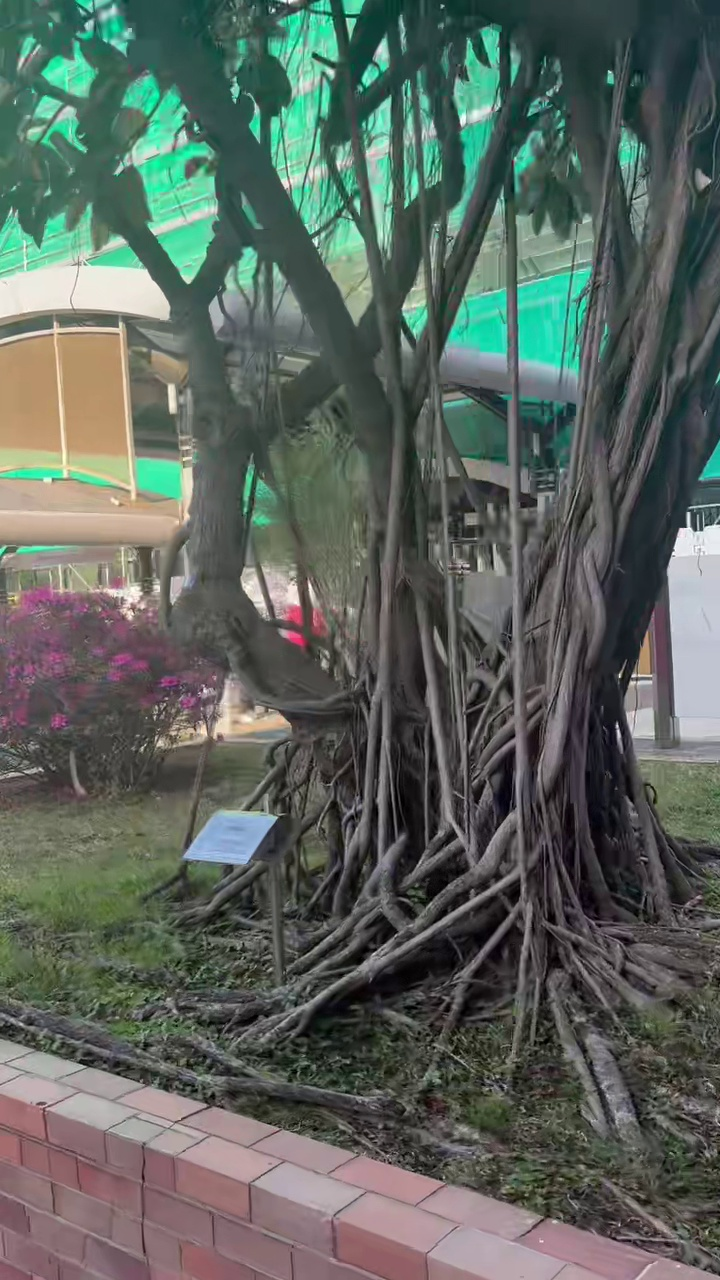Ficus elastica: (113, 0, 719, 1047)
